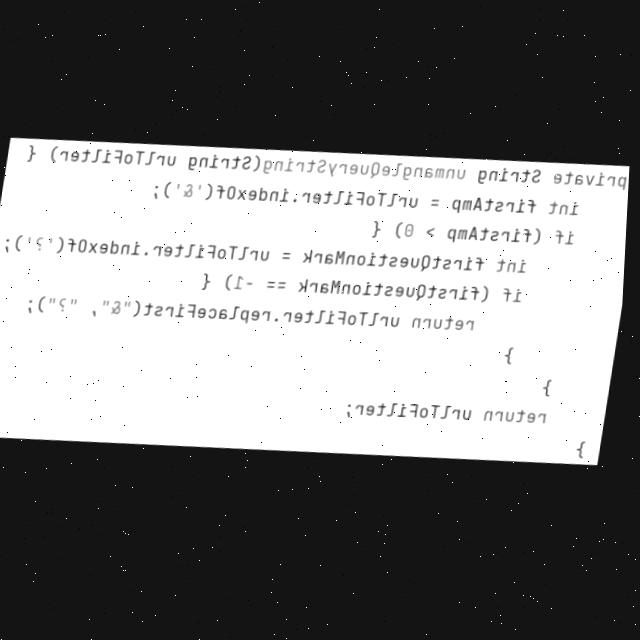code_screen: (0, 137, 629, 463)
